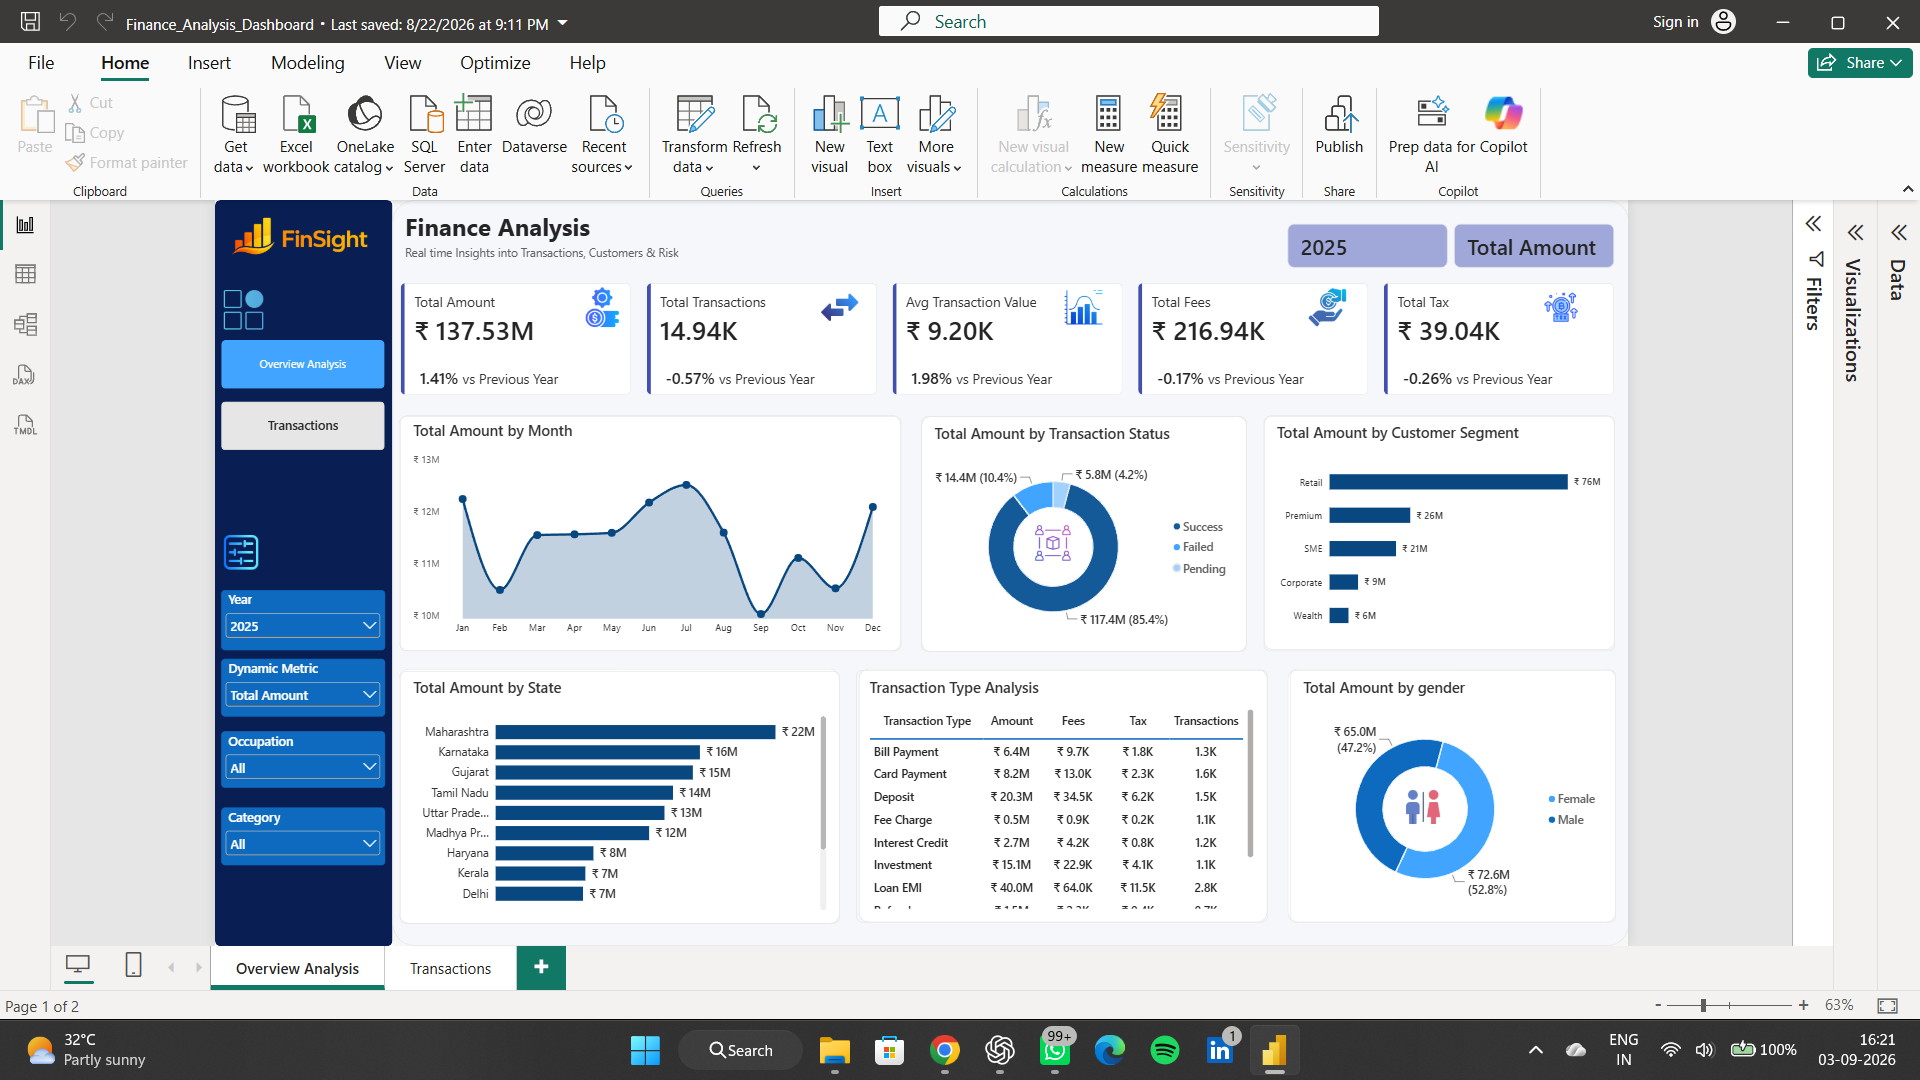

The page's visual inventory and layout, read from the dashboard file:
{"tool":"powerbi","page":{"name":"Overview Analysis","canvas":[1800,950],"ordinal":0},"visuals":[{"type":"shape","box":[0,0,226,950.3],"z":0},{"type":"shape","box":[226,0,1575,950],"z":1000},{"type":"image","box":[11.4,11.4,197.9,70.3],"z":2000},{"type":"cardVisual","fields":{"Data":["Measure.Dashboard Title"]},"box":[226,4.8,390,81.7],"z":3000},{"type":"cardVisual","fields":{"Data":["Measure.Total Amount","Measure.Total Transactions","Measure.Avg Transaction Value","Measure.Total Fee","Measure.Total Tax"]},"box":[235.6,105.1,1547.3,144.9],"z":4000},{"type":"slicer","fields":{"Values":["Calendar Table.Year"]},"box":[8,496.7,208.5,76.4],"z":5000},{"type":"image","box":[467.2,112.1,50,50],"z":6000},{"type":"image","box":[770.7,112.1,50,50],"z":7000},{"type":"image","box":[1081,112.1,50,50],"z":8000},{"type":"image","box":[1391.4,112.1,50,50],"z":9000},{"type":"image","box":[1689.7,112.1,50,50],"z":10000},{"type":"slicer","fields":{"Values":["Dynamic Metric.Dynamic Metric"]},"box":[8,584.2,208.5,73.2],"z":11000},{"type":"shape","box":[234,273.8,639.9,300.9],"z":12000},{"type":"lineChart","fields":{"Y":["Measure.Total Amount"],"Category":["Calendar Table.Month"]},"box":[235.6,275.4,638.3,299.3],"z":13000},{"type":"cardVisual","fields":{"Data":["Measure.Selected Year","Measure.Selected Dynamic Matric"]},"box":[1365.8,30.2,417.2,56.2],"z":14000},{"type":"shape","box":[899.4,275.4,415,300],"z":15000},{"type":"donutChart","fields":{"Y":["Measure.Total Amount"],"Category":["finance_transactions.transaction_status"]},"box":[899.4,275.4,414.8,300],"z":16000},{"type":"shape","box":[1335.5,273.8,447.3,299.3],"z":17000},{"type":"clusteredBarChart","fields":{"Y":["Measure.Total Amount"],"Category":["customers.customer_segment"]},"box":[1335.5,275.4,447.3,299.3],"z":18000},{"type":"shape","box":[234,596.9,561.9,324.7],"z":19000},{"type":"barChart","fields":{"Y":["Measure.Total Amount"],"Category":["customers.state"]},"box":[235.6,600.1,560.3,321.5],"z":20000},{"type":"shape","box":[819.8,596.9,520.5,323.1],"z":21000},{"type":"tableEx","title":"Transaction Type Analysis","fields":{"Values":["finance_transactions.transaction_type","Measure.Total Amount","Measure.Total Fees","Measure.Total Tax","Measure.Total Transactions"]},"box":[816.6,598.5,523.7,321.5],"z":22000},{"type":"shape","box":[1365.8,596.9,418.7,323.1],"z":23000},{"type":"donutChart","fields":{"Y":["Measure.Total Amount"],"Category":["customers.gender"]},"box":[1369,598.5,415.5,321.5],"z":24000},{"type":"image","box":[1042.6,412.3,49.1,49.1],"z":25000},{"type":"image","box":[1513.8,748.2,49.3,49.3],"z":26000},{"type":"slicer","fields":{"Values":["customers.occupation"]},"box":[8,676.5,208.5,71.6],"z":27000},{"type":"slicer","fields":{"Values":["finance_transactions.merchant_category"]},"box":[8,773.6,208.5,73.2],"z":28000},{"type":"pageNavigator","box":[8,178.3,208.5,141.7],"z":29000},{"type":"image","box":[11.4,114.5,50.7,50.7],"z":30000},{"type":"image","box":[8.2,423.5,50,50],"z":31000}]}

Visuals, with their boxes on the page's 1800x950 design canvas (x1, y1, x2, y2). These are canvas units, not pixel positions in the 1920x1080 screenshot, which may show the page scaled, cropped or inside an application window:
shape: bbox(0, 0, 226, 950)
shape: bbox(226, 0, 1801, 950)
image: bbox(11, 11, 209, 82)
cardVisual - Measure.Dashboard Title: bbox(226, 5, 616, 86)
cardVisual - Measure.Total Amount x Measure.Total Transactions: bbox(236, 105, 1783, 250)
slicer - Calendar Table.Year: bbox(8, 497, 216, 573)
image: bbox(467, 112, 517, 162)
image: bbox(771, 112, 821, 162)
image: bbox(1081, 112, 1131, 162)
image: bbox(1391, 112, 1441, 162)
image: bbox(1690, 112, 1740, 162)
slicer - Dynamic Metric.Dynamic Metric: bbox(8, 584, 216, 657)
shape: bbox(234, 274, 874, 575)
lineChart - Measure.Total Amount x Calendar Table.Month: bbox(236, 275, 874, 575)
cardVisual - Measure.Selected Year x Measure.Selected Dynamic Matric: bbox(1366, 30, 1783, 86)
shape: bbox(899, 275, 1314, 575)
donutChart - Measure.Total Amount x finance_transactions.transaction_status: bbox(899, 275, 1314, 575)
shape: bbox(1336, 274, 1783, 573)
clusteredBarChart - Measure.Total Amount x customers.customer_segment: bbox(1336, 275, 1783, 575)
shape: bbox(234, 597, 796, 922)
barChart - Measure.Total Amount x customers.state: bbox(236, 600, 796, 922)
shape: bbox(820, 597, 1340, 920)
"Transaction Type Analysis" tableEx: bbox(817, 598, 1340, 920)
shape: bbox(1366, 597, 1784, 920)
donutChart - Measure.Total Amount x customers.gender: bbox(1369, 598, 1784, 920)
image: bbox(1043, 412, 1092, 461)
image: bbox(1514, 748, 1563, 798)
slicer - customers.occupation: bbox(8, 676, 216, 748)
slicer - finance_transactions.merchant_category: bbox(8, 774, 216, 847)
pageNavigator: bbox(8, 178, 216, 320)
image: bbox(11, 114, 62, 165)
image: bbox(8, 424, 58, 474)
